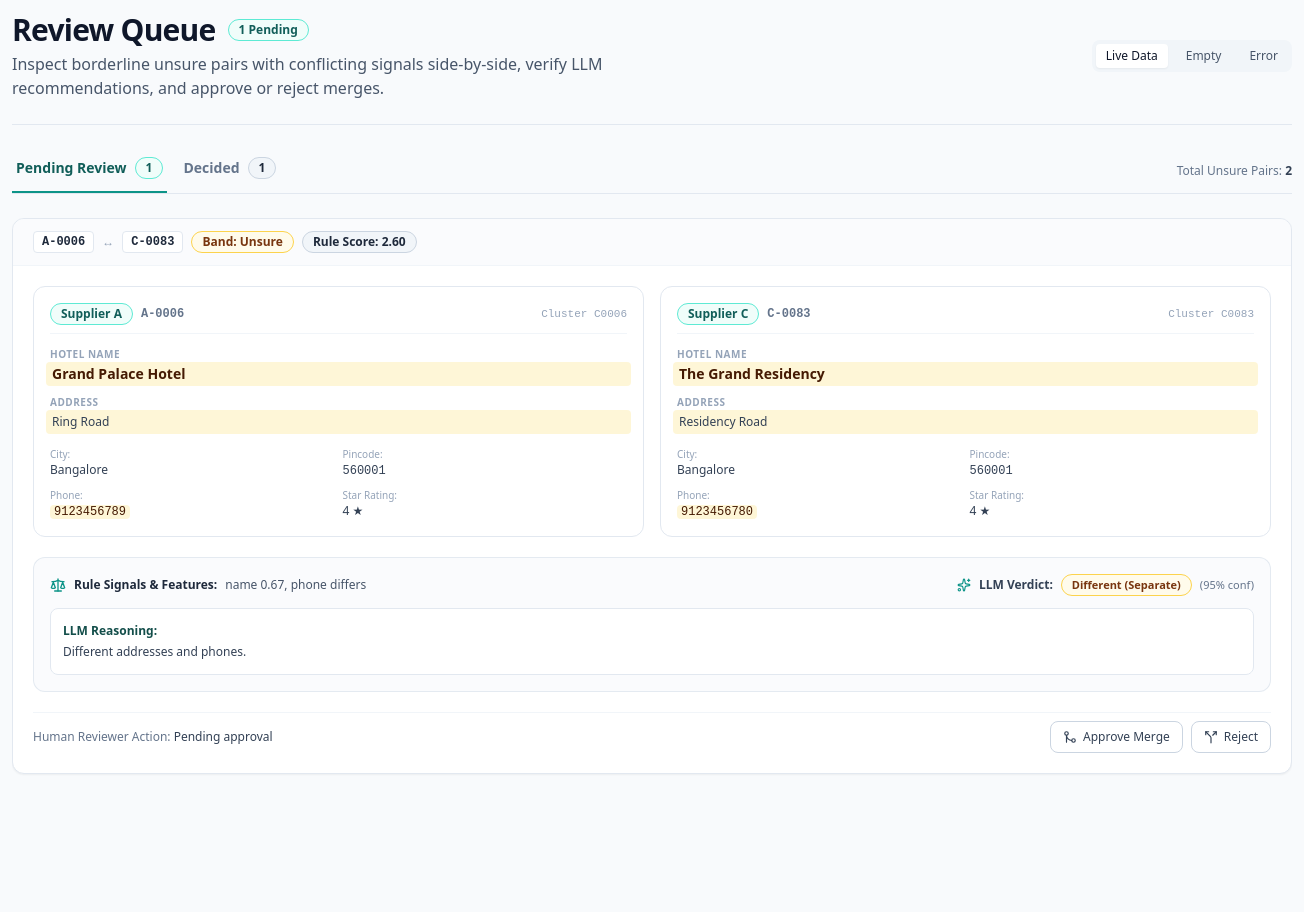
Scenario: ReviewPage › preserves saved decisions across tab switches and page loads
The width and height of the screenshot is (1304, 912).
Check: the text "1 Pending" is shown, box [228,19,309,41]
// Switch to Decided tab
What coordinates should you click on to do the following:
click the button "Decided 1"
I would click on:
 (230, 175)
Its box is [179,157,280,193].
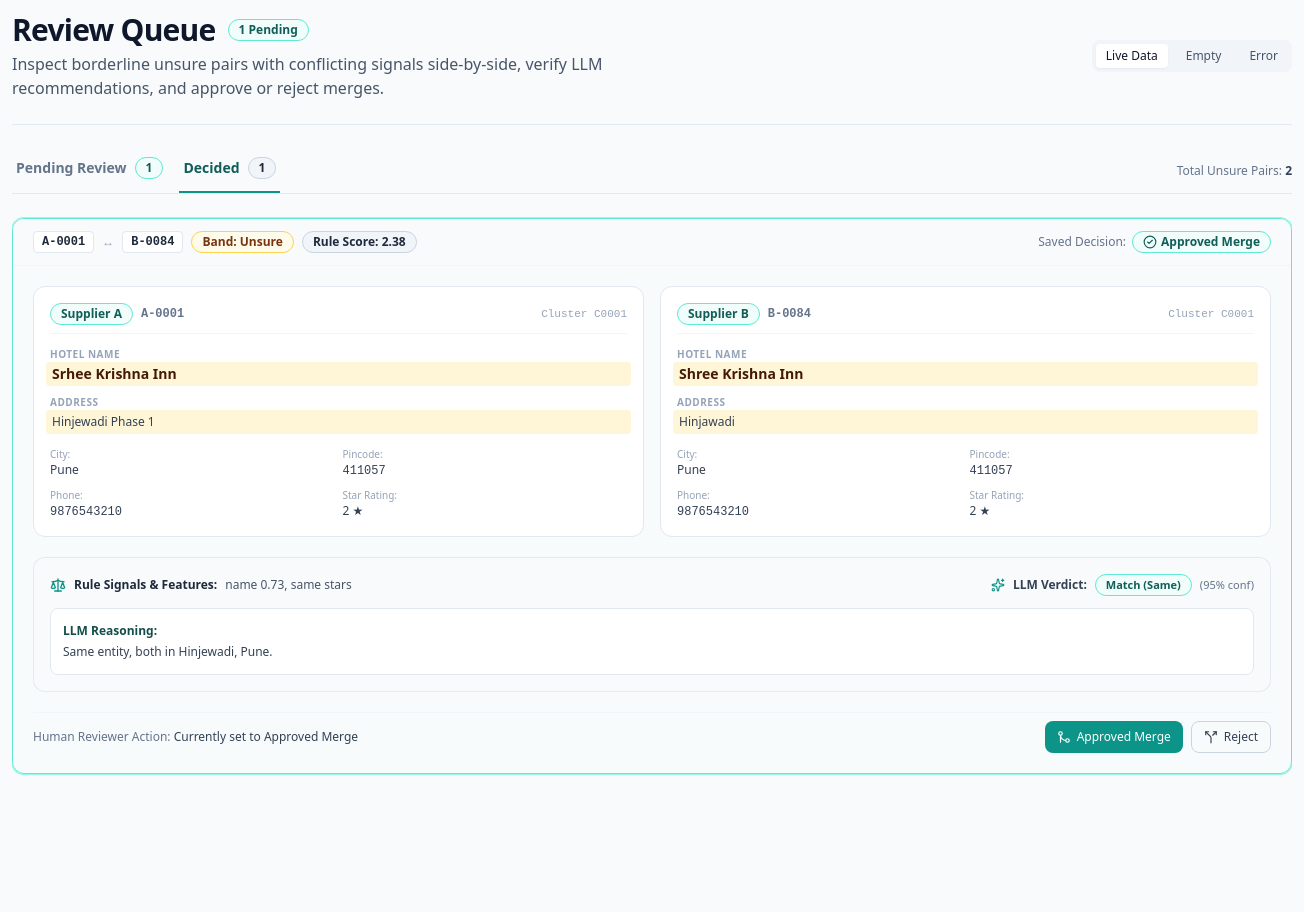
Check: the text "Approved Merge" next to "Saved Decision:" is shown, box [1161,233,1260,250]
Check: the text "Srhee Krishna Inn" is shown, box [46,362,631,386]
